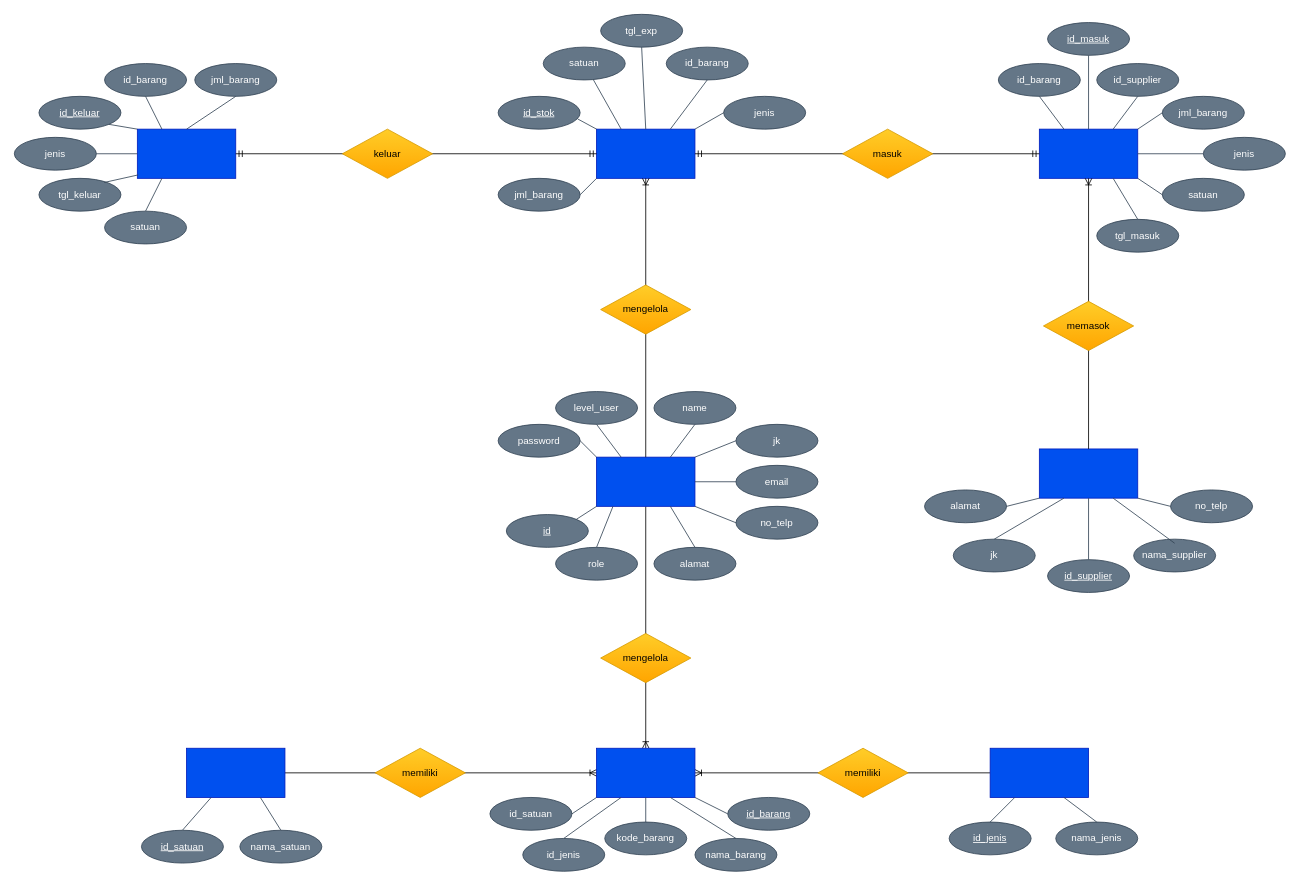
This 1300x886 diagram has some shape labels left out. Each missing label, with the centre of its shape:
barang_keluar: point 186,153
barang_masuk: point 1088,153
data_barang: point 645,772
jenis_barang: point 1039,772
satuan_barang: point 235,772
stok_barang: point 645,153
supplier: point 1088,473
users: point 645,481
